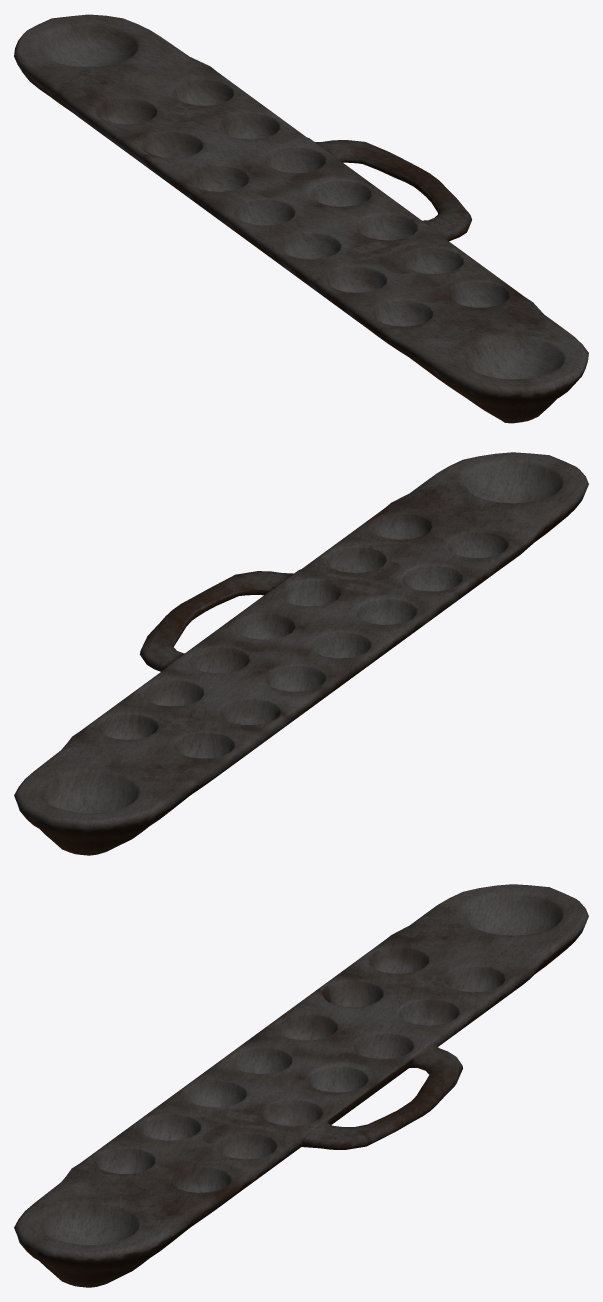
Rendered from sungka_board_2k.gltf.
3 views of the same model, one above another, from view 1: azimuth 30°, elevation 25°; view 2: azimuth 150°, elevation 25°; view 3: azimuth 330°, elevation 25° (orthographic).
Parts seen in each view (by area): view 1: sungka_board; view 2: sungka_board; view 3: sungka_board.
Boxes of the visible parts, x1,y1,x2,y2 form: sungka_board: [14, 14, 588, 423]; sungka_board: [14, 452, 588, 855]; sungka_board: [14, 884, 588, 1287].
Bounding box in the file's own units: 0.14 × 0.0352 × 0.6006.
1 material, 1 textured.
